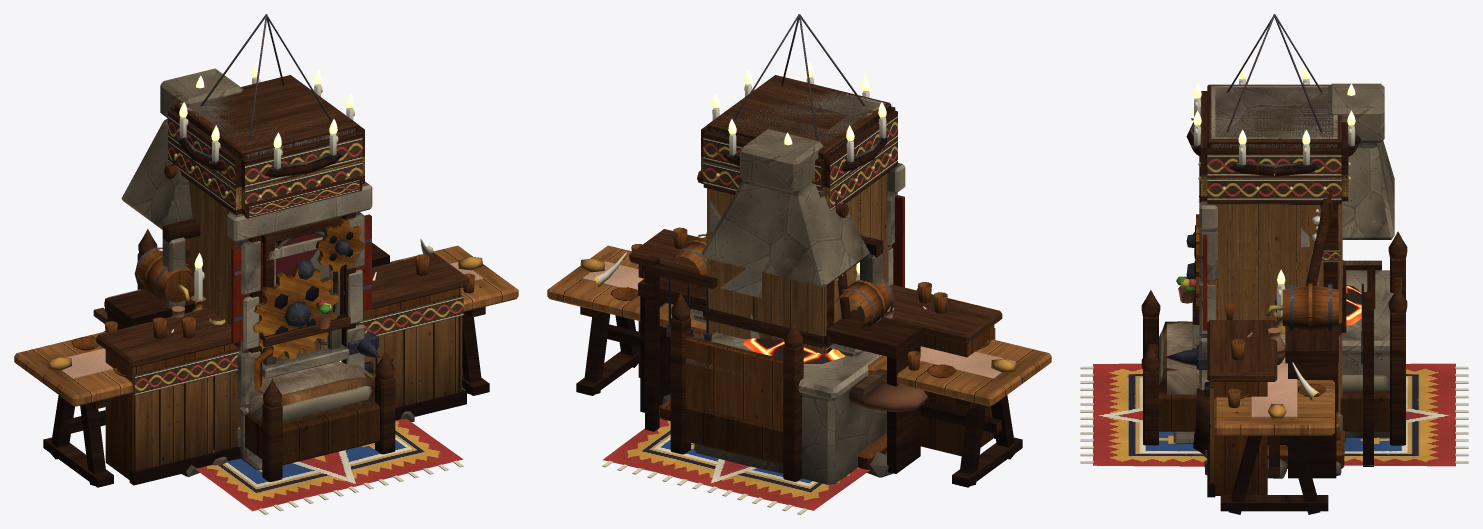
The model's file is kit_interior.glb.
The picture shows the model from 3 angles, left to right: view 1: azimuth 30°, elevation 25°; view 2: azimuth 150°, elevation 25°; view 3: azimuth 270°, elevation 25°; orthographic projection.
Parts seen in each view (by area): view 1: interior_bar_mesh, interior_wall_hall_mesh, interior_bed_mesh, interior_long_table_mesh, interior_rug_mesh, interior_forge_mesh, interior_gear_wall_mesh, interior_wall_stone_door_mesh, interior_wall_timber_window_mesh, interior_wall_stone_mesh, interior_chandelier_mesh, interior_wall_timber_door_mesh (+3 smaller); view 2: interior_forge_mesh, interior_long_table_mesh, interior_bar_mesh, interior_bed_mesh, interior_wall_hall_mesh, interior_rug_mesh, interior_wall_stone_mesh, interior_wall_timber_window_mesh, interior_gear_wall_mesh, interior_wall_timber_mesh, interior_chandelier_mesh, interior_wall_stone_door_mesh (+4 smaller); view 3: interior_wall_hall_mesh, interior_forge_mesh, interior_bar_mesh, interior_rug_mesh, interior_bed_mesh, interior_long_table_mesh, interior_gear_wall_mesh, interior_wall_stone_mesh, interior_wall_timber_mesh, interior_chandelier_mesh, interior_wall_timber_door_mesh, interior_wall_timber_window_mesh (+4 smaller).
Part boxes in pixels (bbox=[...]): interior_bar_mesh: bbox=[96, 242, 469, 485]; interior_wall_hall_mesh: bbox=[168, 75, 364, 447]; interior_bed_mesh: bbox=[137, 229, 395, 481]; interior_long_table_mesh: bbox=[14, 239, 518, 487]; interior_rug_mesh: bbox=[196, 418, 463, 514]; interior_forge_mesh: bbox=[93, 68, 380, 394]; interior_gear_wall_mesh: bbox=[174, 95, 364, 389]; interior_wall_stone_door_mesh: bbox=[227, 181, 372, 469]; interior_wall_timber_window_mesh: bbox=[189, 181, 371, 378]; interior_wall_stone_mesh: bbox=[168, 102, 364, 215]; interior_chandelier_mesh: bbox=[177, 14, 354, 177]; interior_wall_timber_door_mesh: bbox=[188, 175, 362, 468]; interior_forge_mesh: bbox=[643, 129, 927, 484]; interior_long_table_mesh: bbox=[547, 244, 1051, 487]; interior_bar_mesh: bbox=[629, 227, 1002, 473]; interior_bed_mesh: bbox=[670, 288, 918, 481]; interior_wall_hall_mesh: bbox=[701, 75, 897, 354]; interior_rug_mesh: bbox=[602, 417, 869, 514]; interior_wall_stone_mesh: bbox=[701, 92, 897, 338]; interior_wall_timber_window_mesh: bbox=[728, 173, 904, 353]; interior_gear_wall_mesh: bbox=[701, 91, 897, 209]; interior_wall_timber_mesh: bbox=[707, 189, 891, 354]; interior_chandelier_mesh: bbox=[712, 14, 888, 171]; interior_wall_stone_door_mesh: bbox=[710, 163, 905, 285]; interior_wall_hall_mesh: bbox=[1193, 84, 1348, 442]; interior_forge_mesh: bbox=[1165, 83, 1394, 466]; interior_bar_mesh: bbox=[1207, 283, 1338, 497]; interior_rug_mesh: bbox=[1080, 363, 1468, 466]; interior_bed_mesh: bbox=[1141, 231, 1407, 445]; interior_long_table_mesh: bbox=[1214, 327, 1334, 514]; interior_gear_wall_mesh: bbox=[1186, 87, 1350, 441]; interior_wall_stone_mesh: bbox=[1200, 85, 1348, 287]; interior_wall_timber_mesh: bbox=[1208, 204, 1340, 413]; interior_chandelier_mesh: bbox=[1186, 14, 1360, 176]; interior_wall_timber_door_mesh: bbox=[1173, 156, 1340, 440]; interior_wall_timber_window_mesh: bbox=[1176, 204, 1340, 413].
Size of the model in its own units: 3.8 by 3.36 by 2.89.
28 materials, 18 textured.
